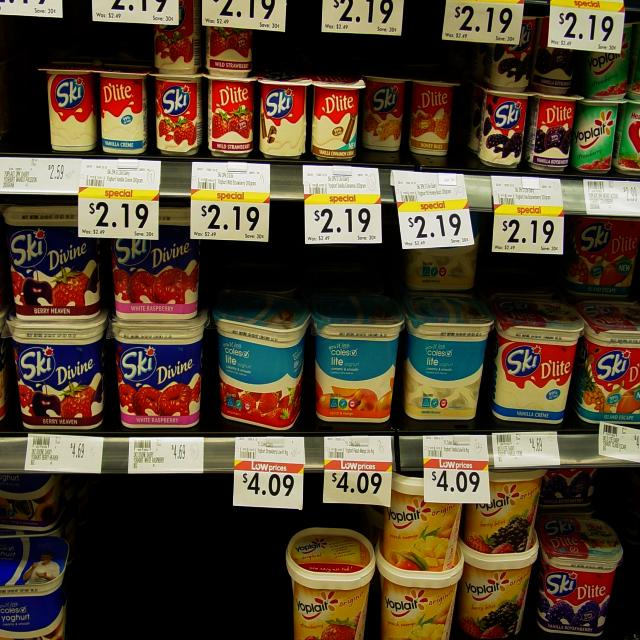empty_space: (87, 504, 275, 636), (12, 43, 42, 141)
